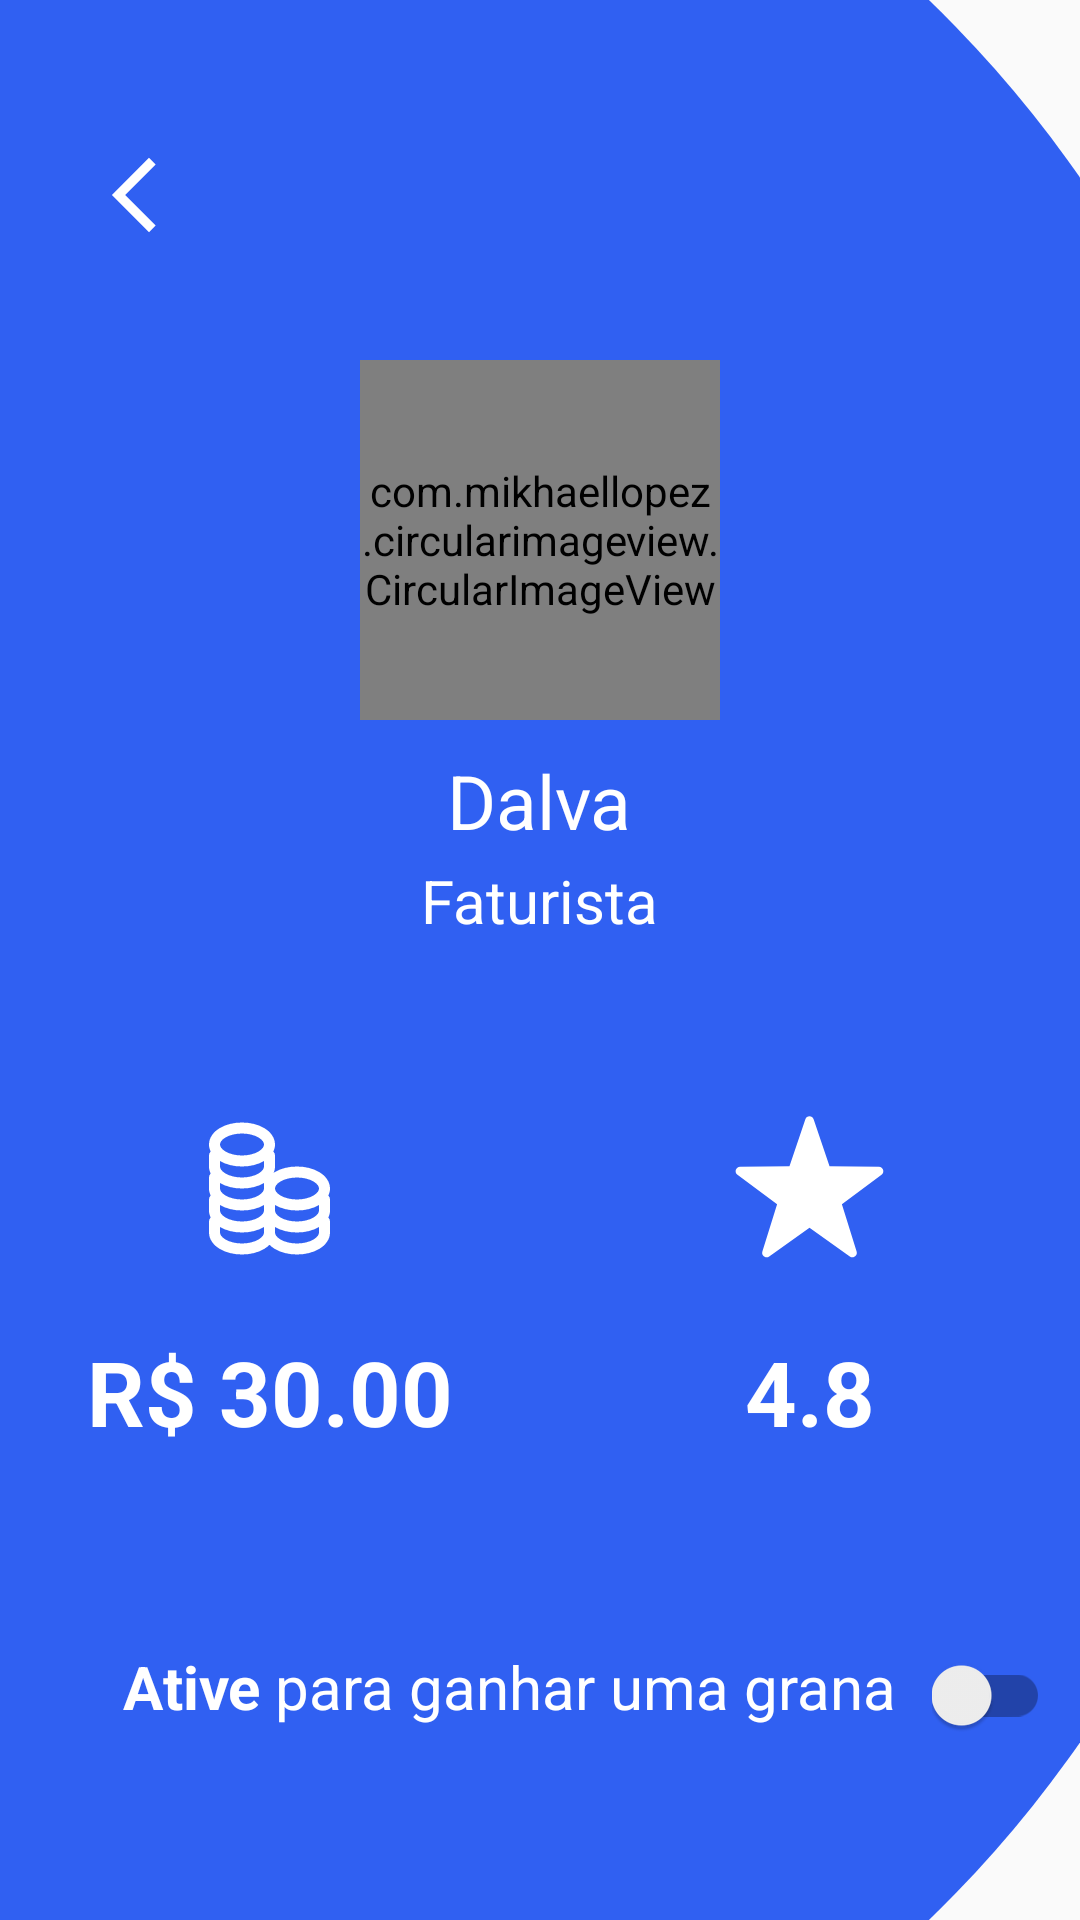

Screen size 1080 x 1920. Icon name, then its center in pixels as point (x, y):
coins: point (269, 1188)
star: point (809, 1187)
